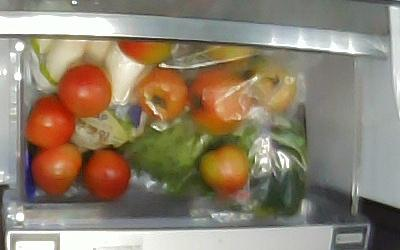tomato: (58, 65, 111, 118), (31, 142, 82, 195), (26, 95, 76, 147), (82, 148, 130, 202), (200, 144, 248, 194), (116, 40, 176, 64)
tomato_vinyl: (188, 68, 254, 137), (133, 66, 188, 121), (246, 60, 296, 112), (204, 43, 255, 64)
